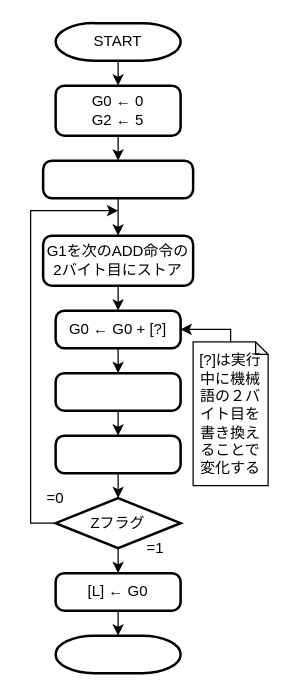
The diagram is 290 pixels wide and 695 high, and some of its shapes have lost their labels. Here are the shapes that lost their labels. From the top down, the centre of each, then its label:
the point at 117,179: G1 ← Aのアドレス
the point at 117,391: G1 ← G1 + 1
the point at 117,454: G2 ← G2 - 1
the point at 117,654: END
